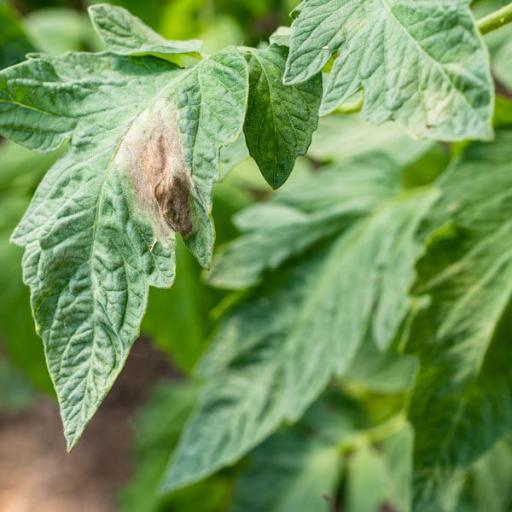Late Blight: (1, 2, 253, 460), (282, 4, 506, 142)
